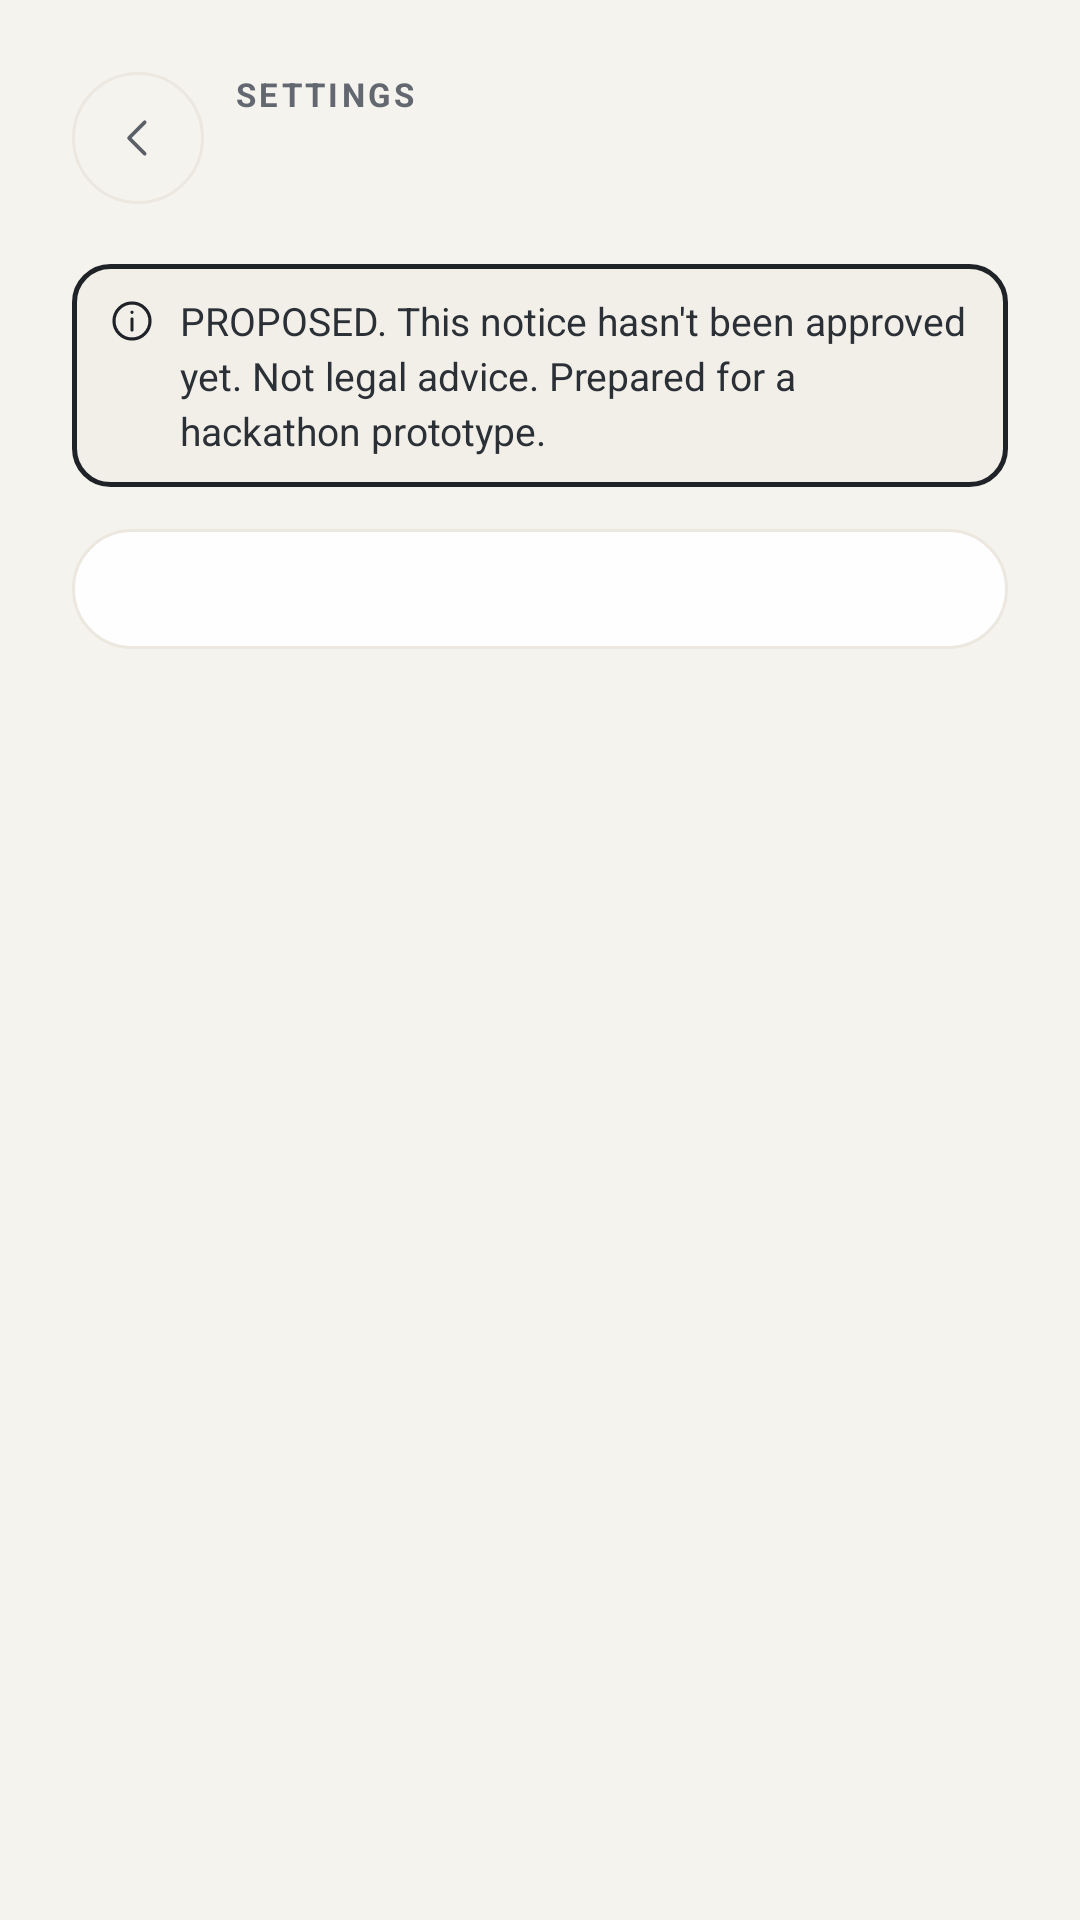

Named icons in this screenshot (1080w x 1920h) and their bounding boxes, (x1, y1, x2, y2):
Back: (127, 120, 147, 156)
info: (112, 301, 152, 341)
